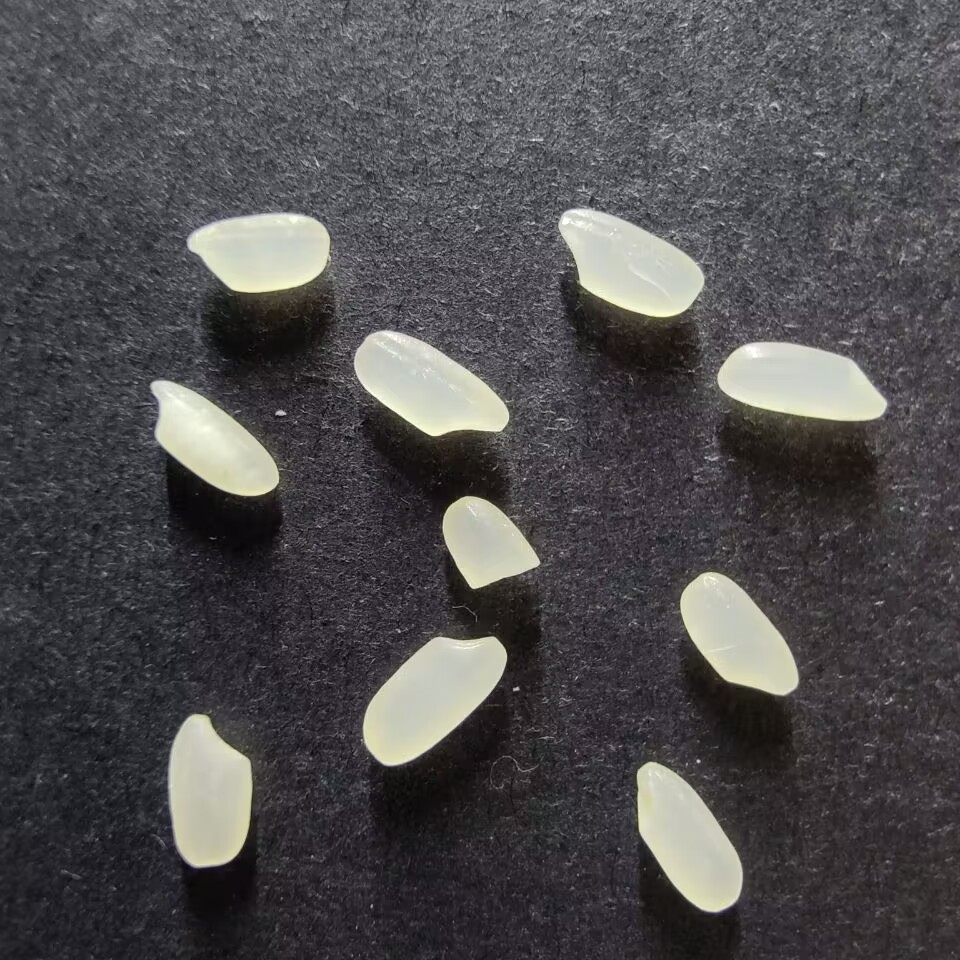broken: (441, 495, 540, 590)
rice: (361, 634, 508, 766), (353, 330, 508, 437), (635, 761, 743, 912), (557, 208, 704, 317), (149, 378, 280, 496), (679, 571, 799, 696), (716, 341, 888, 422), (167, 714, 251, 868), (186, 213, 329, 292)
